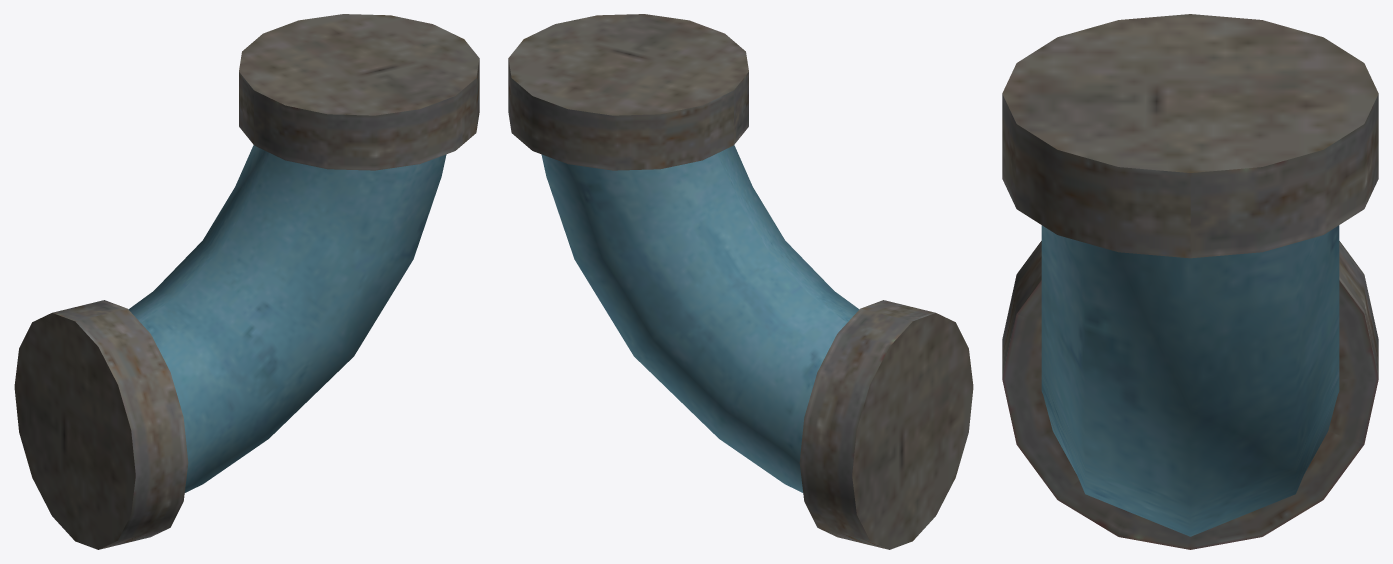
Rendered from nt_2020_pipes_90_blue_LOD0.obj.
The picture shows the model from 3 angles, left to right: view 1: azimuth 30°, elevation 25°; view 2: azimuth 150°, elevation 25°; view 3: azimuth 270°, elevation 25°; orthographic projection. The views are drawn at different scales.
Parts seen in each view (by area): view 1: mtl_nt_2020_pipes_modular_blue; view 2: mtl_nt_2020_pipes_modular_blue; view 3: mtl_nt_2020_pipes_modular_blue.
Boxes of the visible parts, left/top/right/bottom form: mtl_nt_2020_pipes_modular_blue: left=14, top=14, right=479, bottom=549; mtl_nt_2020_pipes_modular_blue: left=508, top=14, right=973, bottom=549; mtl_nt_2020_pipes_modular_blue: left=1002, top=14, right=1378, bottom=549.
Size of the model in its own units: 83.51 by 83.51 by 45.1.
